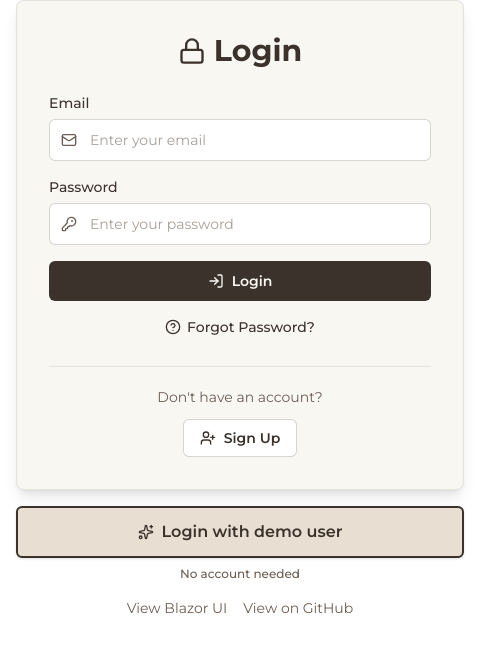
Login › rejects an invalid email and a short password
The image size is (481, 670).
In the field labelled "Email": (240, 140) x1=49 y1=119 x2=431 y2=161, type "not-an-email"
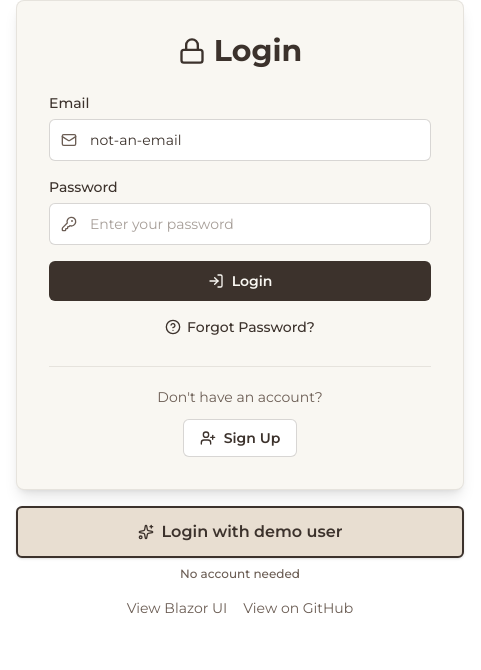
In the password field labelled "Password": (240, 224) x1=49 y1=203 x2=431 y2=245, type "123"
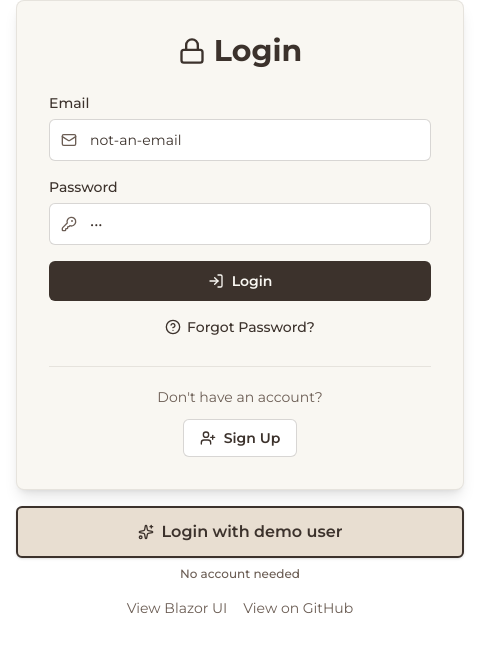
Click the button "Login": (240, 281) x1=49 y1=261 x2=431 y2=301
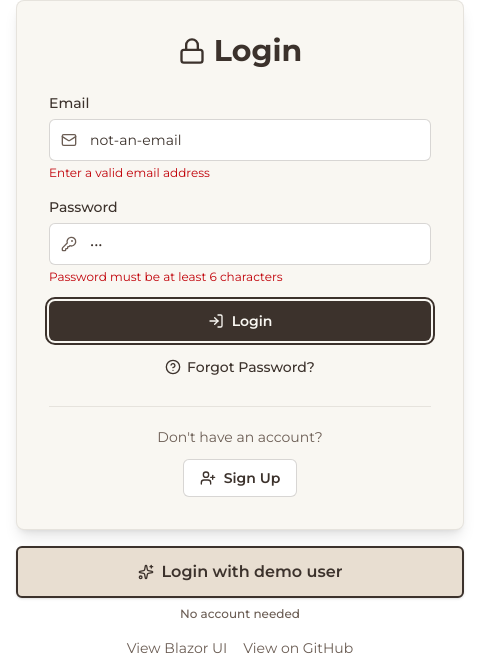
Check: the text with test id "login-email-error" reads "Enter a valid email address", box x1=49 y1=165 x2=210 y2=180
Check: the text with test id "login-password-error" reads "Password must be at least 6 characters", box x1=49 y1=269 x2=282 y2=284
